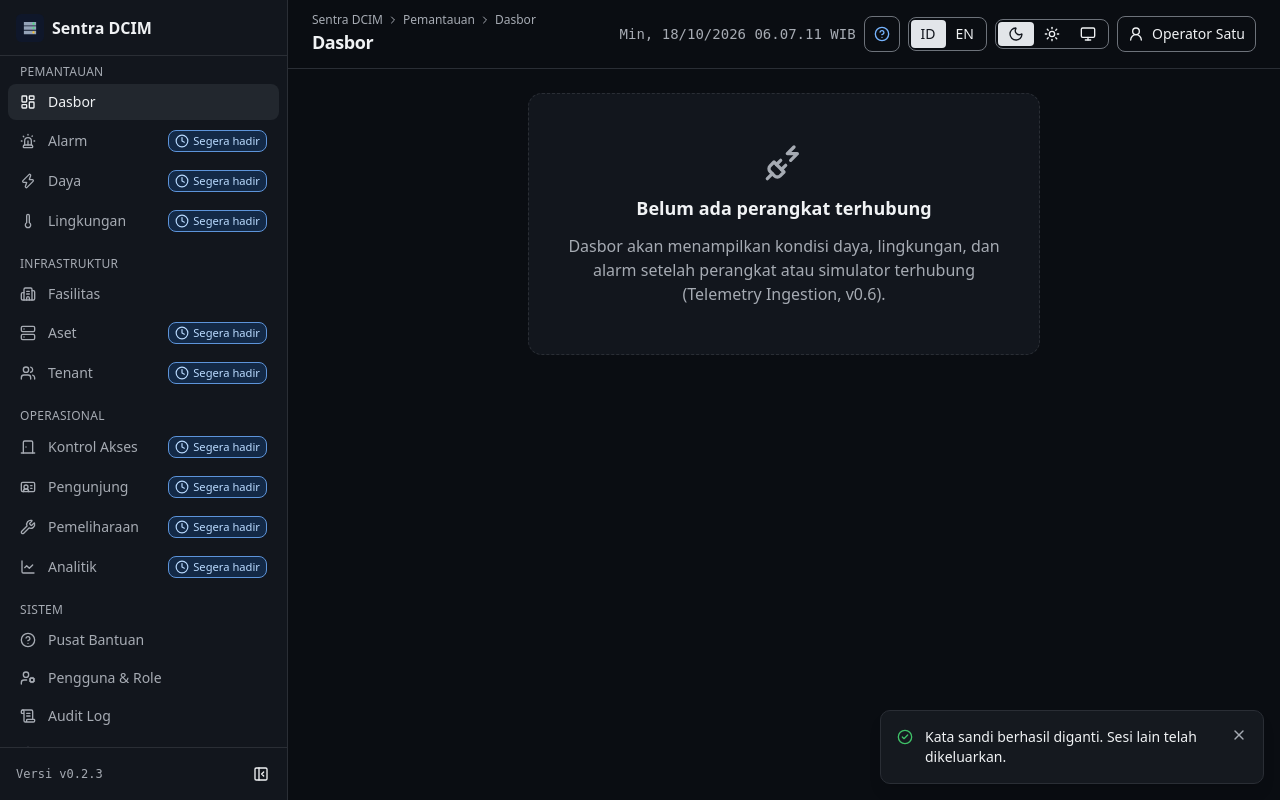
Test: auth › an expired session sends the user to the login page with a notice
This screenshot has width=1280, height=800.
Check: the element with test id "dashboard-empty" is shown, box x1=528 y1=93 x2=1040 y2=355
Click the button with test id "user-menu" at [1186, 34], box x1=1117 y1=16 x2=1256 y2=52
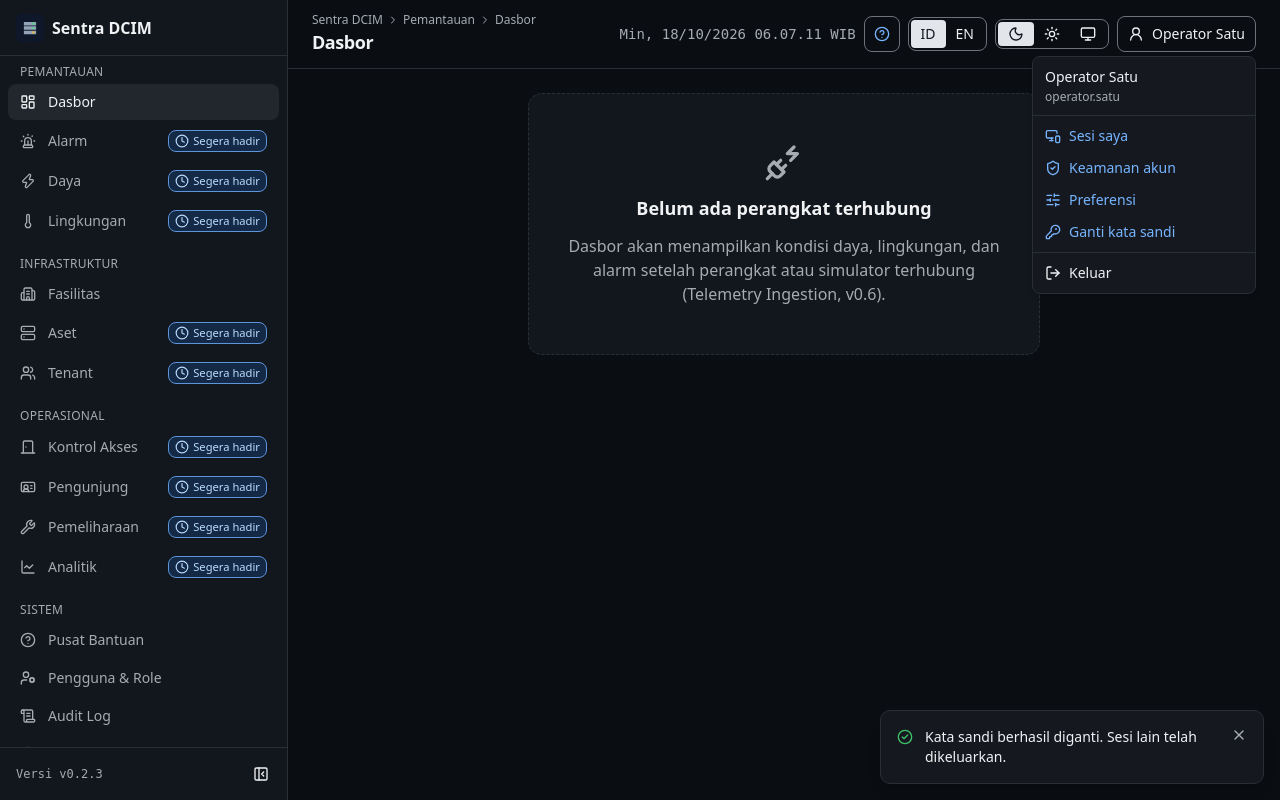
Click the menu item "Sesi saya" at [1087, 136], box x1=1045 y1=126 x2=1128 y2=145
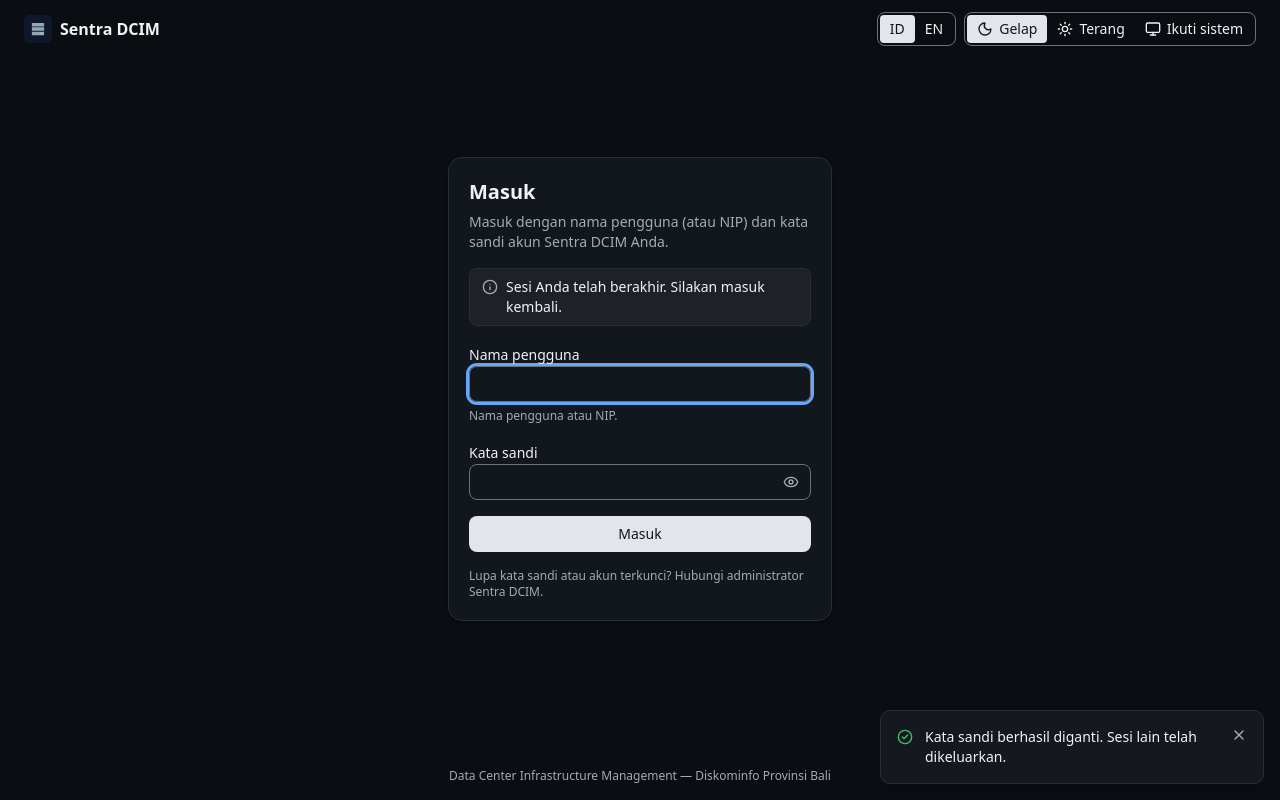
Check: the message with test id "login-expired" reads "Sesi Anda telah berakhir. Silakan masuk kembali.", box x1=506 y1=277 x2=765 y2=316
